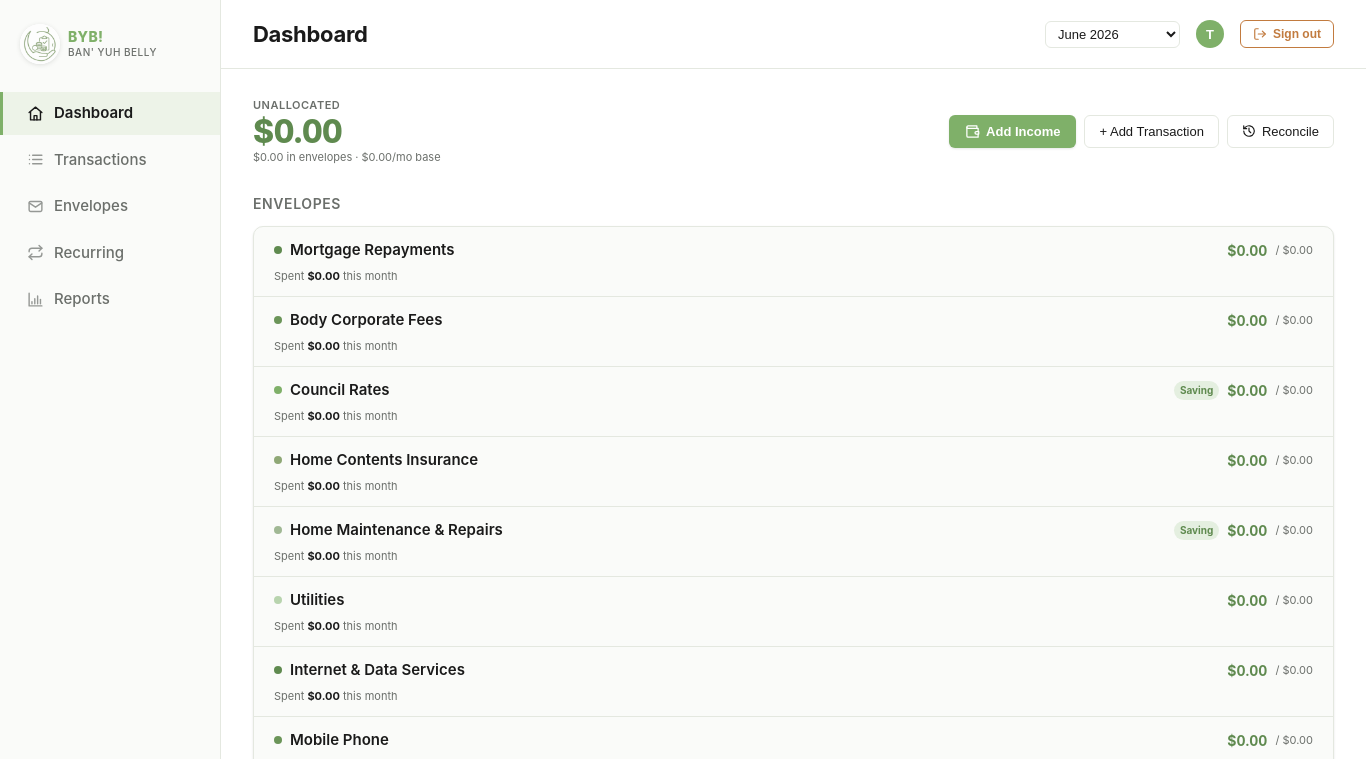
Transactions › deleting a transaction asks for confirmation first
Click the button with test id "nav-transactions".
click(87, 159)  # box [27,150,146,168]
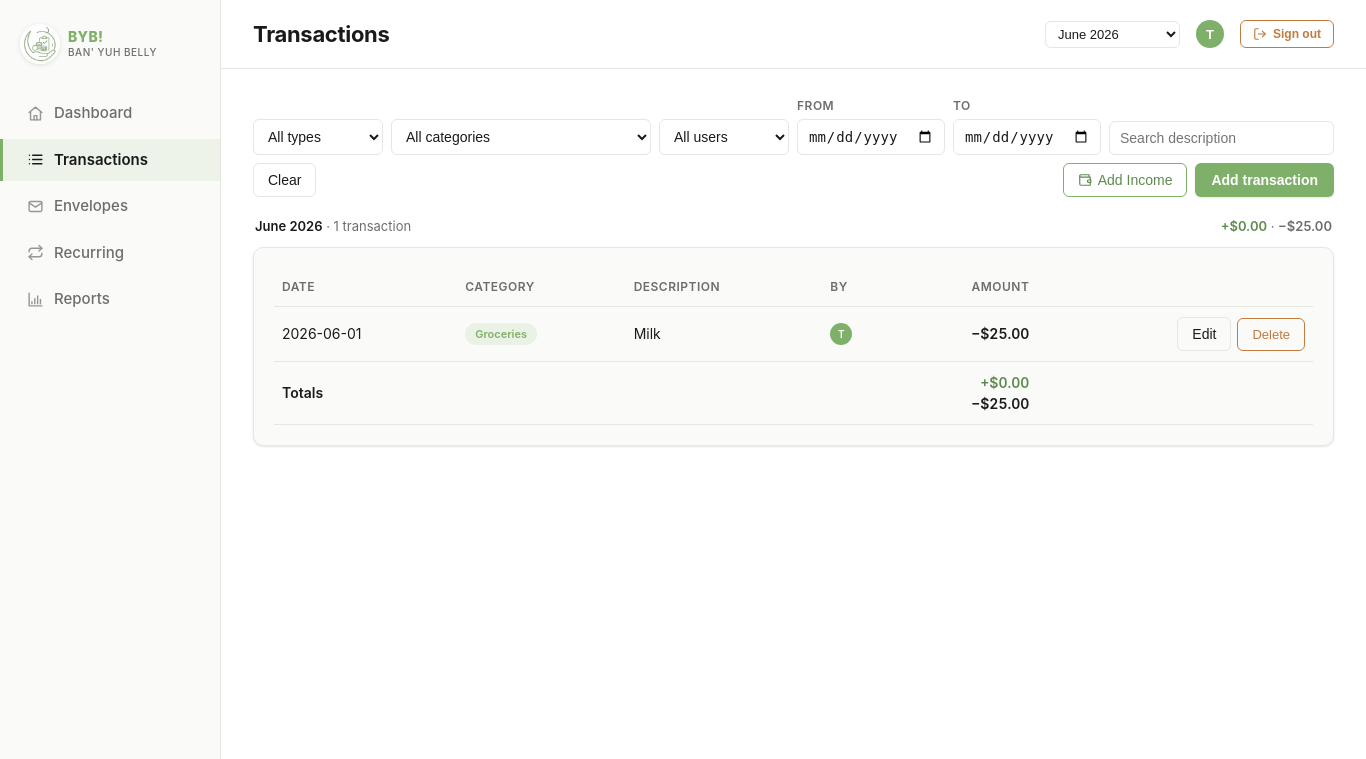
Expected: the row with test id "tx-row-t1" is shown, [274,306,1313,361]
Click the button with test id "tx-delete-t1".
click(1271, 334)  # box [1237,318,1305,350]
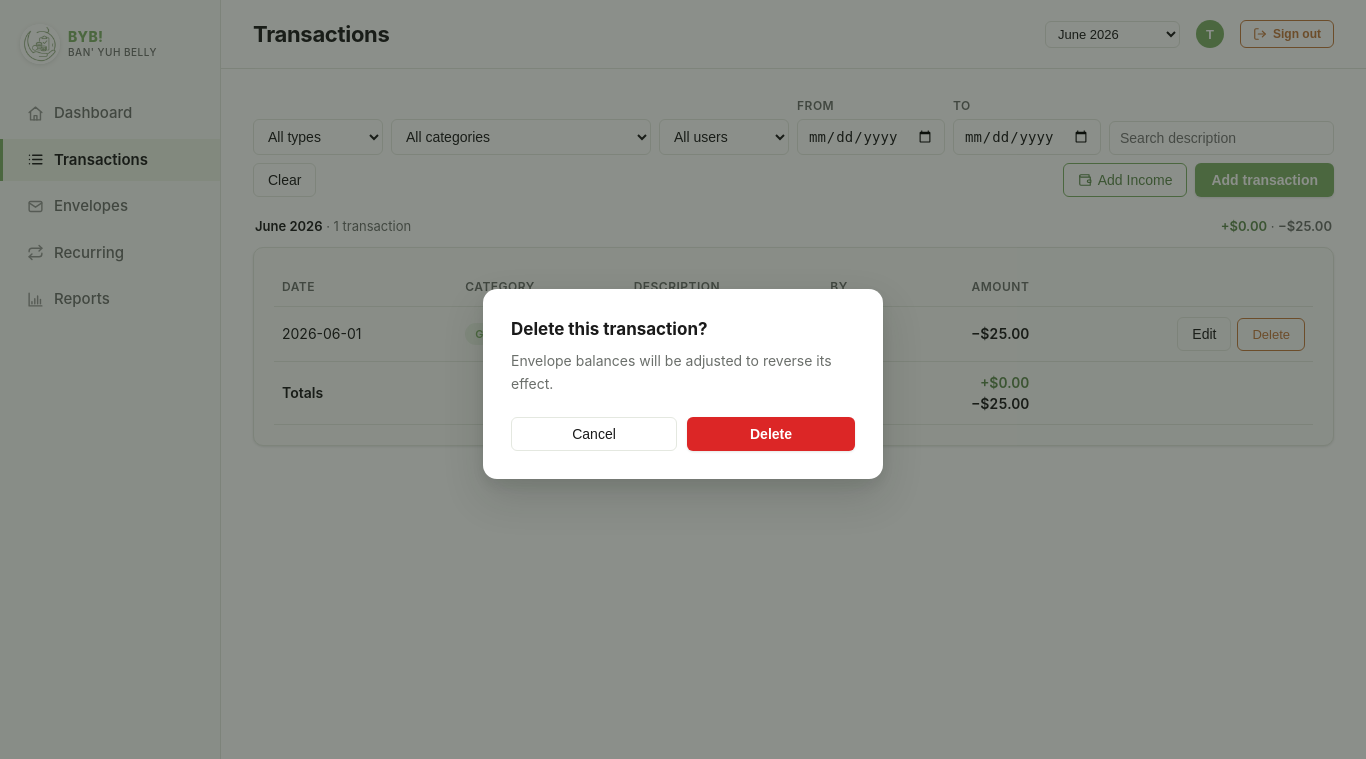
Note: Custom confirm dialog appears instead of window.confirm
Click the button with test id "confirm-ok".
click(771, 434)  # box [687,417,855,451]
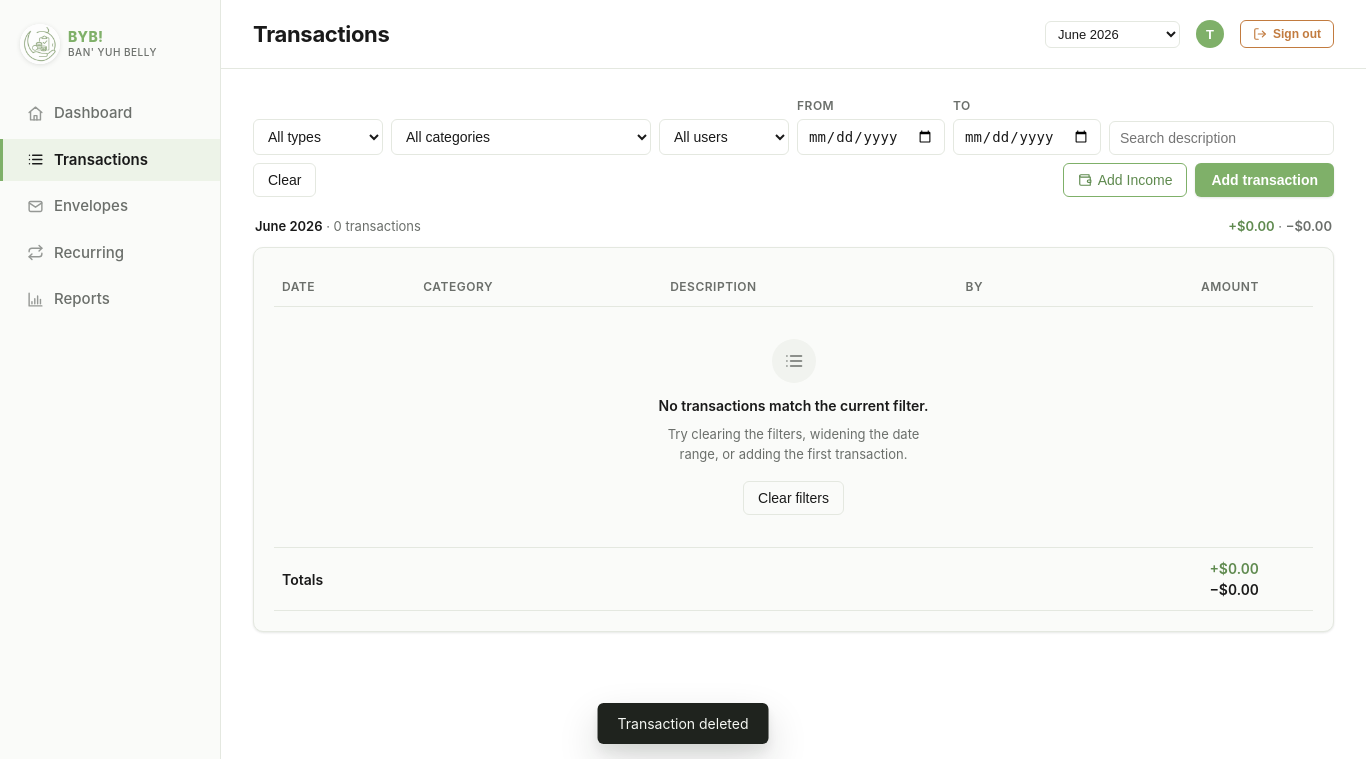
Expected: the row with test id "tx-row-t1" is gone
